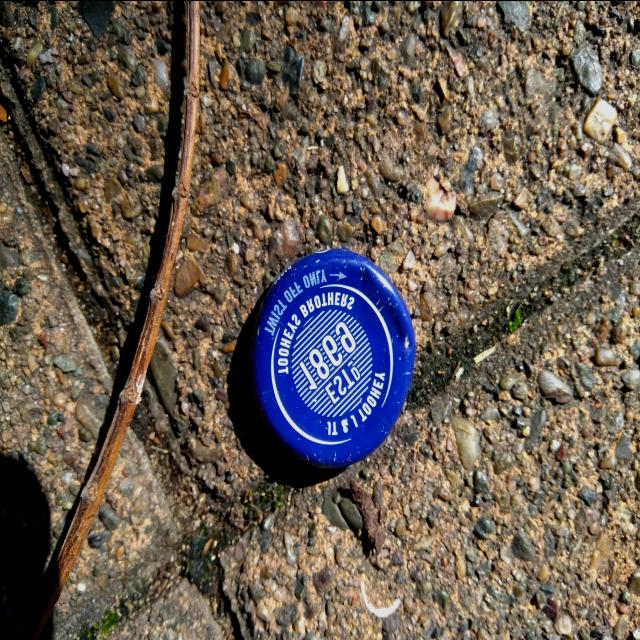Metal bottle cap: (252, 247, 416, 469)
